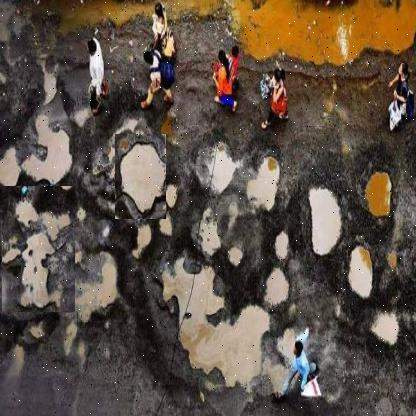pothole_water: (114, 134, 166, 220), (305, 173, 348, 262)
pothole_water_m: (1, 186, 75, 313)
